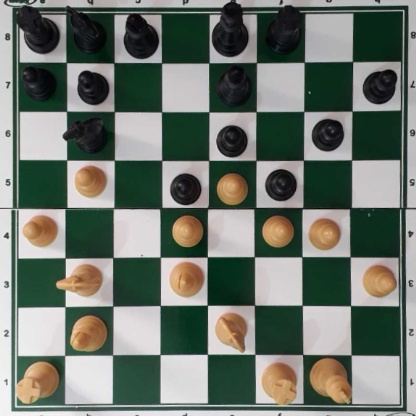black-bishop: (122, 11, 159, 59), (218, 64, 251, 106)
black-king: (212, 1, 248, 59)
black-knight: (65, 6, 106, 51), (62, 115, 108, 153)
black-pawn: (18, 65, 57, 101), (75, 68, 111, 105), (362, 67, 397, 104), (311, 116, 345, 151), (215, 123, 249, 157), (265, 166, 297, 201), (170, 172, 202, 205)
black-rook: (14, 1, 59, 53), (265, 5, 303, 53)
white-bishop: (70, 312, 107, 354), (169, 261, 204, 298)
white-king: (309, 356, 352, 405)
white-knight: (55, 263, 104, 298), (214, 311, 250, 352)
white-pawn: (360, 263, 397, 299), (307, 215, 341, 251), (22, 213, 58, 247), (74, 165, 108, 199), (214, 172, 250, 204), (262, 214, 295, 248), (172, 214, 204, 248)
white-rook: (16, 359, 61, 402), (261, 363, 299, 404)
